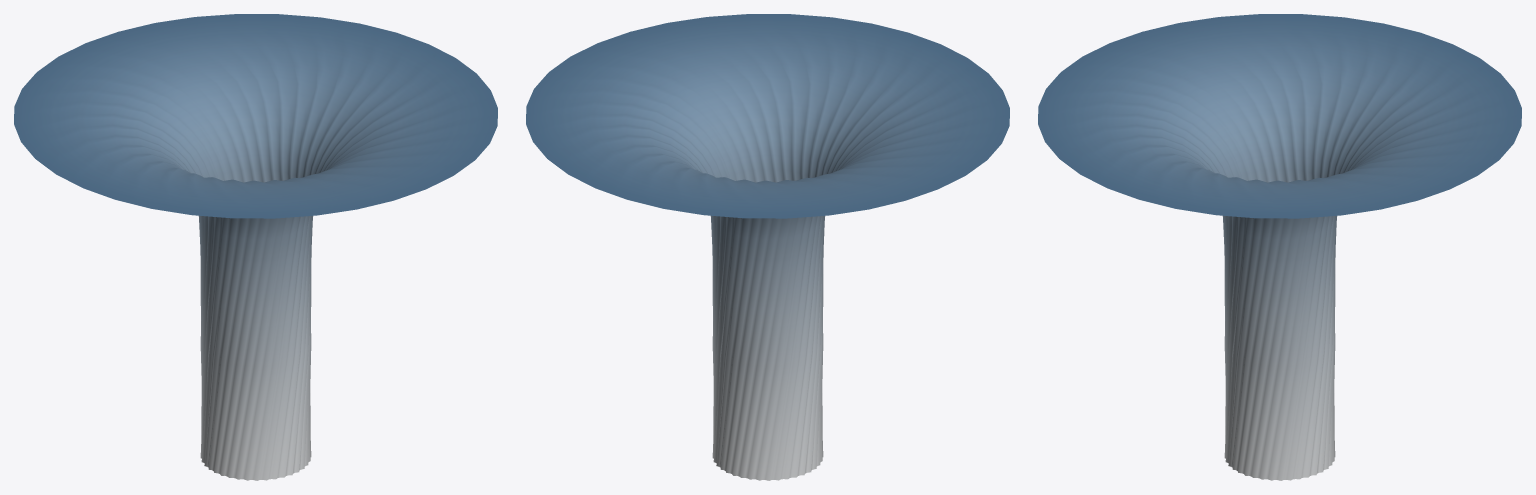
Rendered from vortex1.glb.
3 views of the same model, side by side, from view 1: azimuth 30°, elevation 25°; view 2: azimuth 150°, elevation 25°; view 3: azimuth 270°, elevation 25° (orthographic).
Parts seen in each view (by area): view 1: vortex_new01; view 2: vortex_new01; view 3: vortex_new01.
Part boxes in pixels (left/top/right/bottom): vortex_new01: left=14, top=14, right=497, bottom=480; vortex_new01: left=526, top=14, right=1009, bottom=480; vortex_new01: left=1038, top=14, right=1521, bottom=480.
Size of the model in its own units: 13.14 by 10.23 by 13.14.
Materials: 1 (1 with a texture image).
